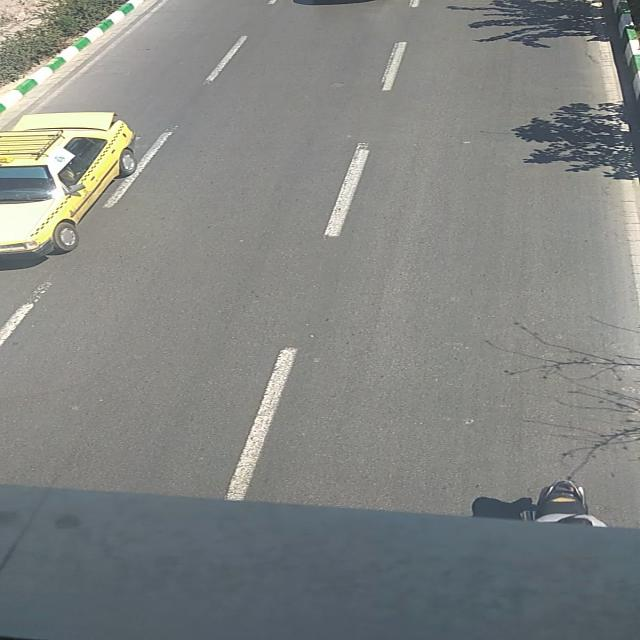car: (0, 110, 139, 259)
